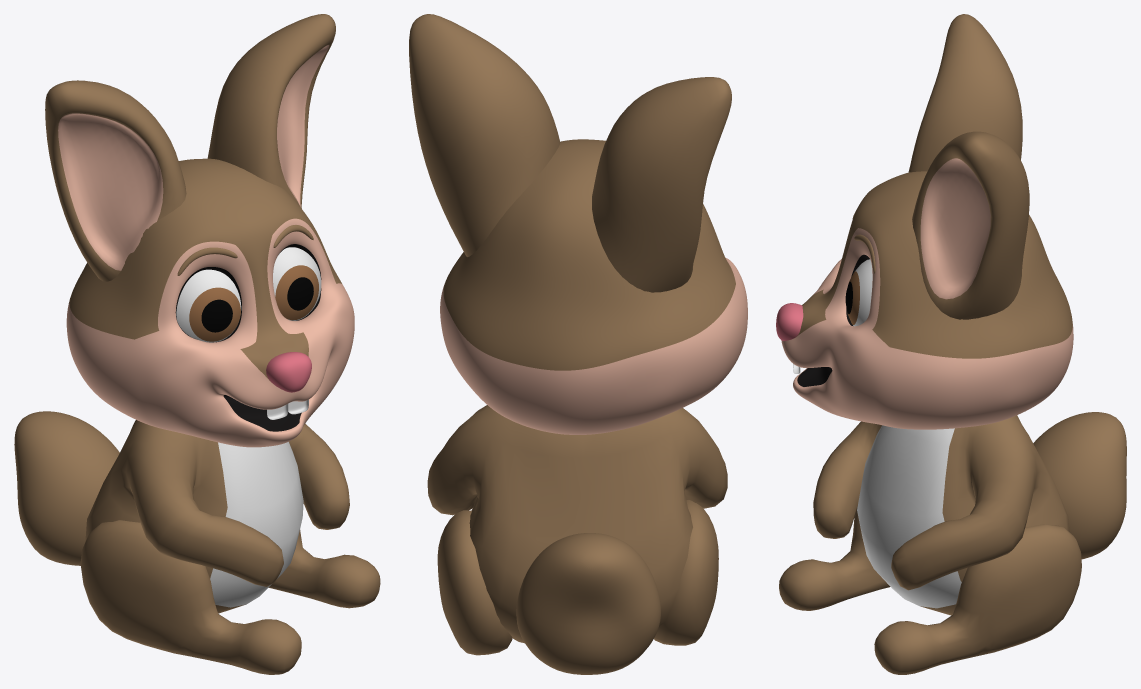
The model's file is Rabbit.glb.
3 views of the same model, side by side, from view 1: azimuth 30°, elevation 25°; view 2: azimuth 150°, elevation 25°; view 3: azimuth 270°, elevation 25° (orthographic). The views are drawn at different scales.
Parts seen in each view (by area): view 1: Cube.030, Cube.028, Cube.031, Plane.063, Sphere.011, Plane.064, Sphere.010, Sphere.009, Cube.027, Cube.023; view 2: Cube.030, Cube.028, Cube.031, Sphere.011, Plane.064, Plane.063; view 3: Cube.030, Cube.031, Cube.028, Plane.064, Sphere.011, Plane.063, Sphere.009, Cube.027.
Boxes of the visible parts, left/top/right/bottom form: Cube.030: left=66, top=158, right=354, bottom=447; Cube.028: left=45, top=14, right=335, bottom=281; Cube.031: left=85, top=420, right=349, bottom=613; Plane.063: left=80, top=520, right=301, bottom=674; Sphere.011: left=14, top=411, right=119, bottom=565; Plane.064: left=268, top=530, right=380, bottom=608; Sphere.010: left=176, top=269, right=241, bottom=342; Sphere.009: left=273, top=247, right=321, bottom=320; Cube.027: left=266, top=352, right=311, bottom=392; Cube.023: left=177, top=225, right=313, bottom=275; Cube.030: left=440, top=139, right=747, bottom=434; Cube.028: left=409, top=14, right=731, bottom=292; Cube.031: left=427, top=405, right=727, bottom=643; Sphere.011: left=516, top=533, right=660, bottom=674; Plane.064: left=437, top=510, right=512, bottom=655; Plane.063: left=654, top=500, right=718, bottom=645; Cube.030: left=781, top=171, right=1073, bottom=429; Cube.031: left=813, top=415, right=1069, bottom=615; Cube.028: left=908, top=14, right=1029, bottom=319; Plane.064: left=874, top=524, right=1081, bottom=674; Sphere.011: left=1033, top=412, right=1126, bottom=559; Plane.063: left=779, top=511, right=890, bottom=610; Sphere.009: left=845, top=259, right=872, bottom=326; Cube.027: left=776, top=303, right=803, bottom=340.
Bounding box in the file's own units: 2.99 × 5.45 × 3.23.
